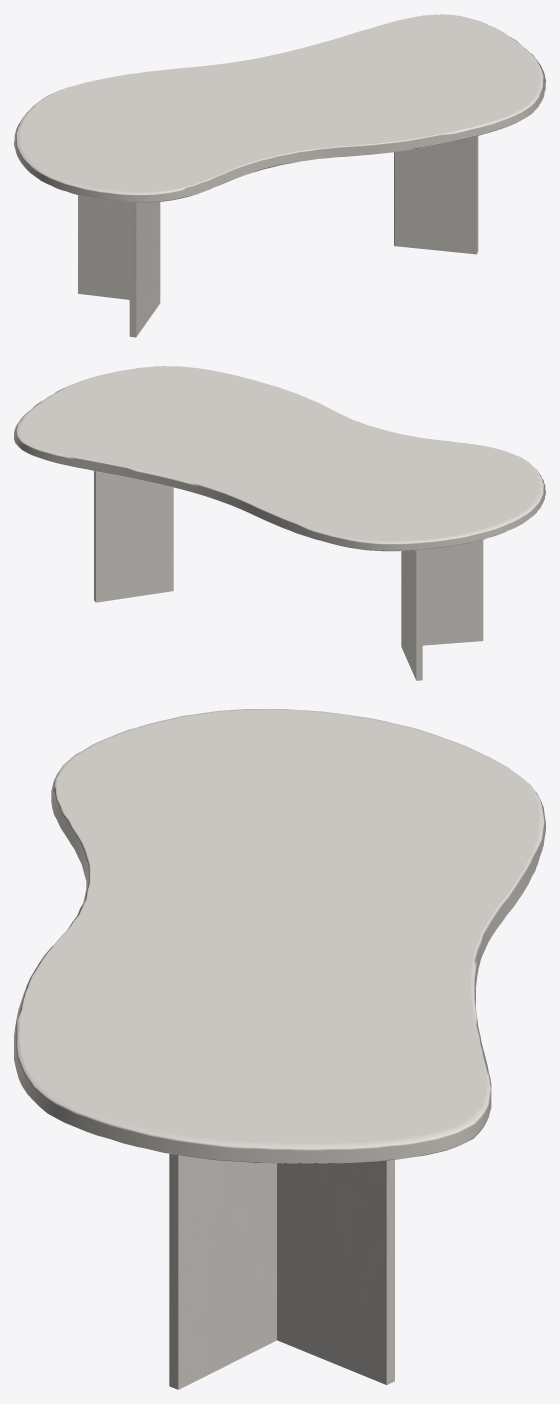
File: pearlwhite_wave_round_valleyv.glb
3 renders of one model, top to bottom at view 1: azimuth 30°, elevation 25°; view 2: azimuth 150°, elevation 25°; view 3: azimuth 270°, elevation 25°, orthographic. The views are drawn at different scales.
Parts seen in each view (by area): view 1: round_wave, valleyv; view 2: round_wave, valleyv; view 3: round_wave, valleyv.
Boxes of the visible parts, x1,y1,x2,y2 form: round_wave: (14, 14, 545, 202); valleyv: (78, 136, 478, 337); round_wave: (14, 366, 545, 551); valleyv: (94, 471, 483, 680); round_wave: (14, 709, 545, 1163); valleyv: (169, 1153, 394, 1389).
Bounding box in the file's own units: 7.7 × 2.5 × 3.89.
1 material, 1 textured.
